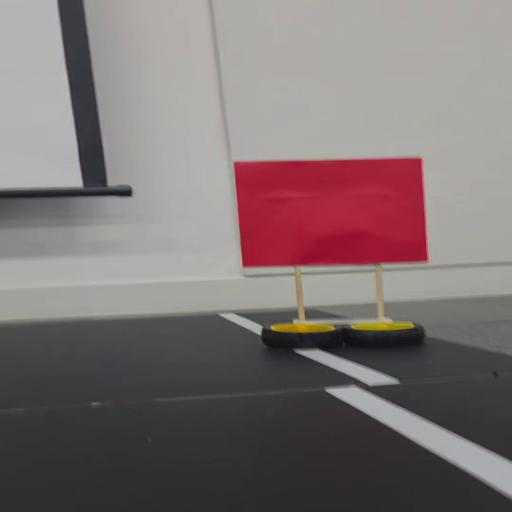Sign_A: (224, 156, 430, 344)
